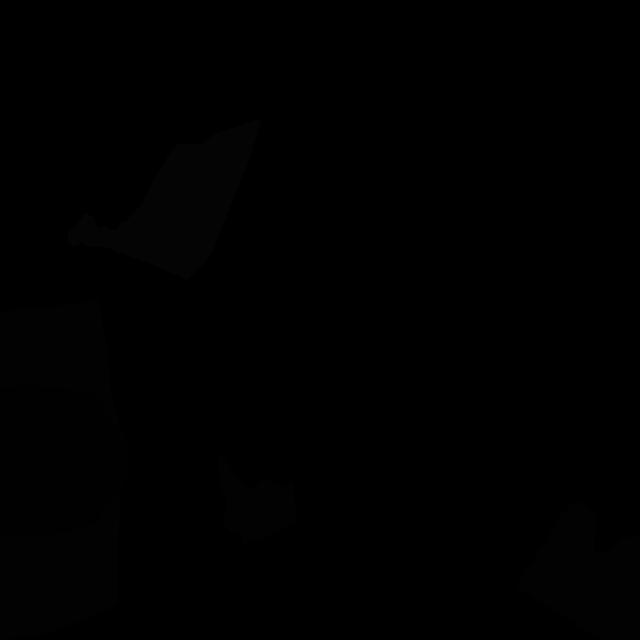cardboard: (0, 495, 120, 640), (516, 500, 640, 640), (0, 300, 120, 426), (218, 456, 297, 545)
rigid_plastic: (0, 387, 130, 535)
soft_plastic: (67, 118, 262, 280)
